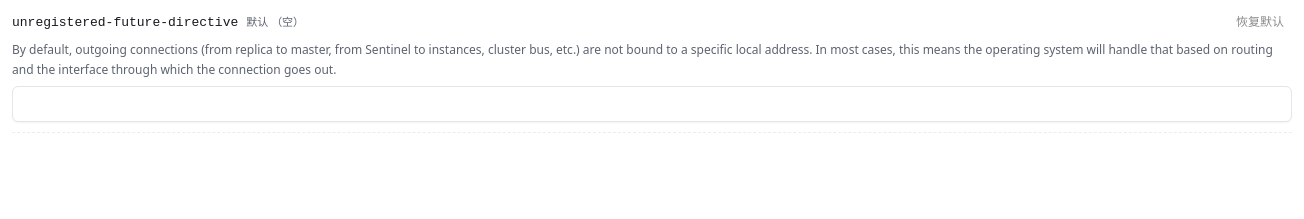
Test: 未登记指令的过长英文说明两行钳制，hover 浮出完整信息
Hover over the text "By default, outgoing connections": x=652, y=60 [12, 40, 1292, 80]
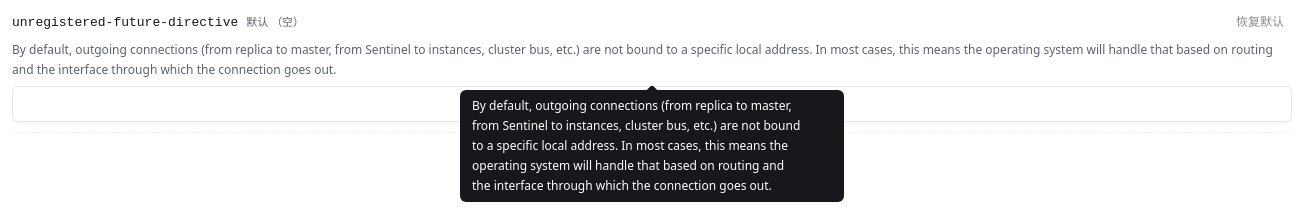
Expected: the tooltip shows "and the interface through which the connection goes out.", [472, 97, 800, 194]
